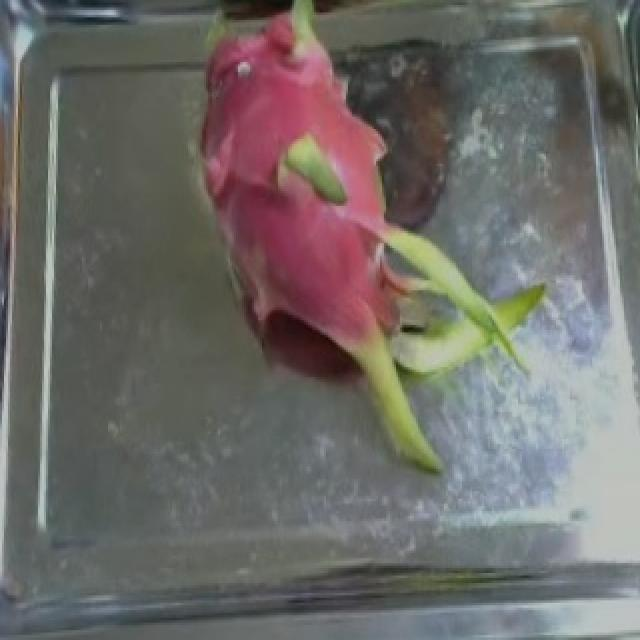fruit: (178, 37, 572, 489)
